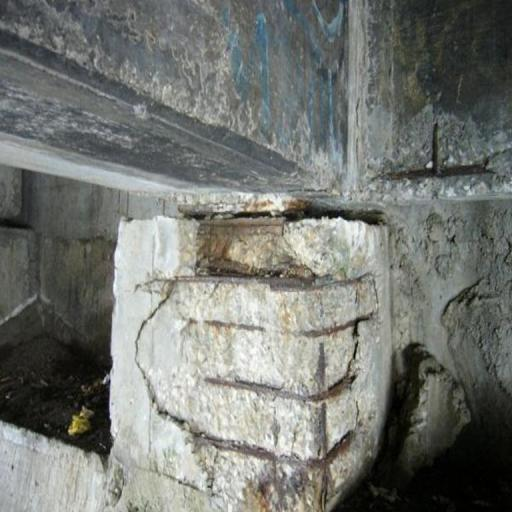spalling: (170, 273, 384, 503)
